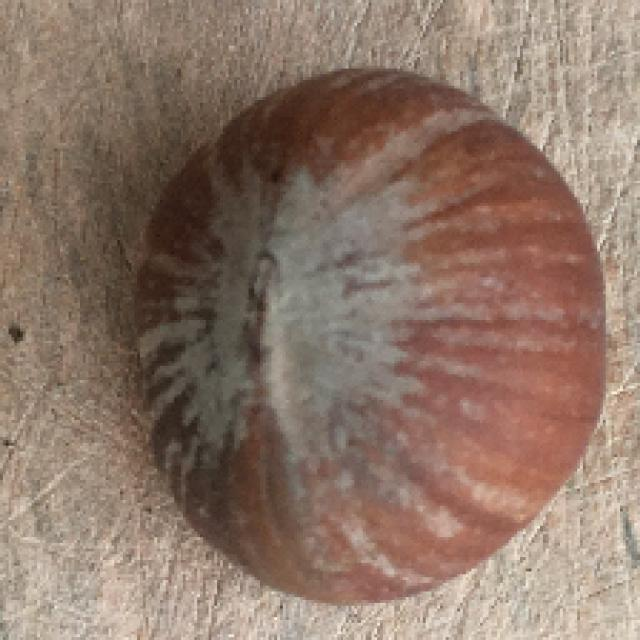damagedHazelnut: (124, 54, 614, 616)
